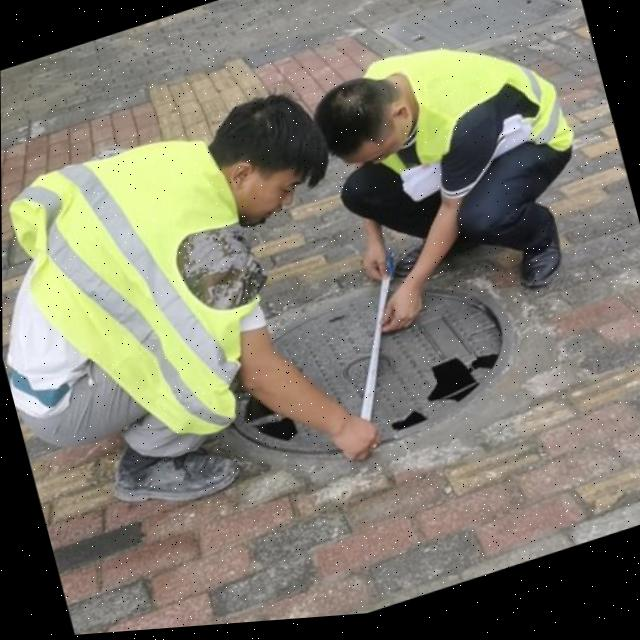manhole: (235, 259, 533, 478)
